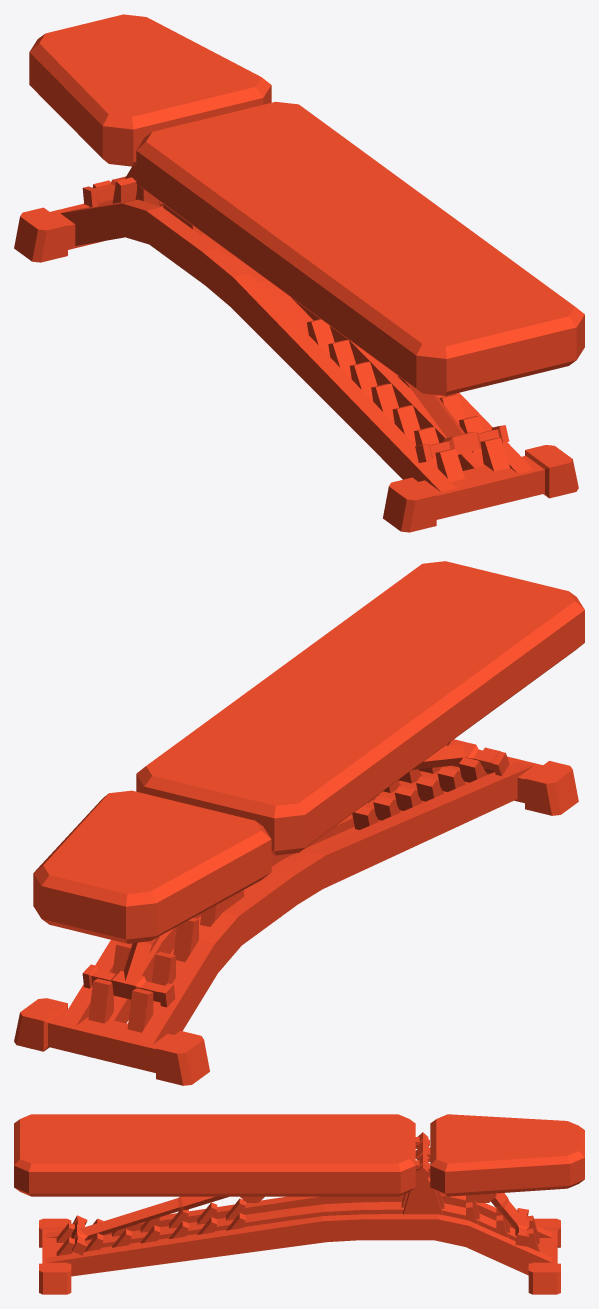
The model's file is SM_Bench_Gym_City.fbx.
3 views of the same model, one above another, from view 1: azimuth 30°, elevation 25°; view 2: azimuth 150°, elevation 25°; view 3: azimuth 270°, elevation 25° (orthographic). The views are drawn at different scales.
Visible parts, largest first — view 1: SM_Bench_Gym_City; view 2: SM_Bench_Gym_City; view 3: SM_Bench_Gym_City.
Boxes of the visible parts, <box> form: SM_Bench_Gym_City: <box>14,14,584,532</box>; SM_Bench_Gym_City: <box>14,561,584,1085</box>; SM_Bench_Gym_City: <box>14,1114,584,1294</box>.
Bounding box in the file's own units: 0.4177 × 0.4285 × 1.75.
